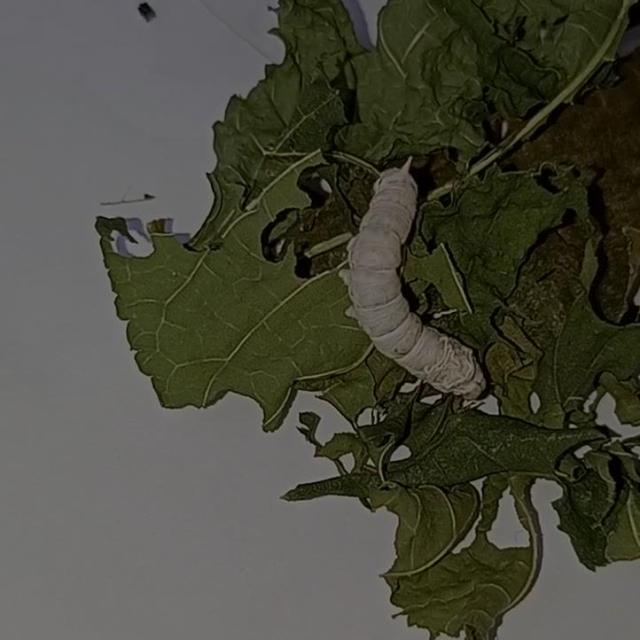Healthy: (303, 112, 512, 434)
